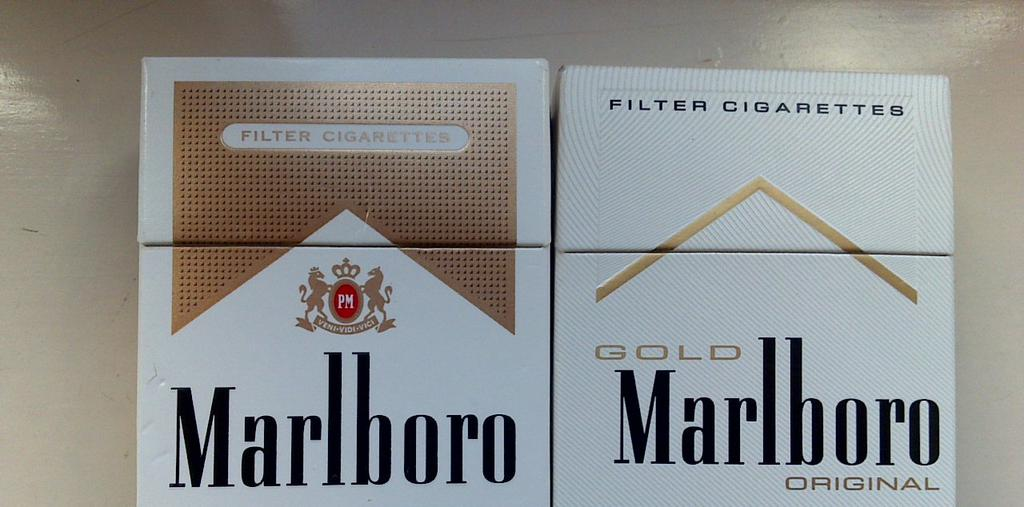marlboro_gold: (565, 71, 954, 507)
